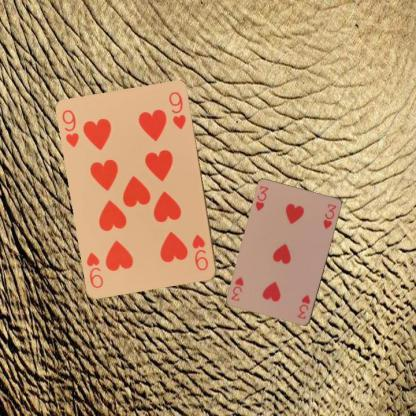3h: (294, 292, 312, 321), (253, 183, 270, 212)
9h: (59, 107, 81, 149), (190, 232, 210, 272)
